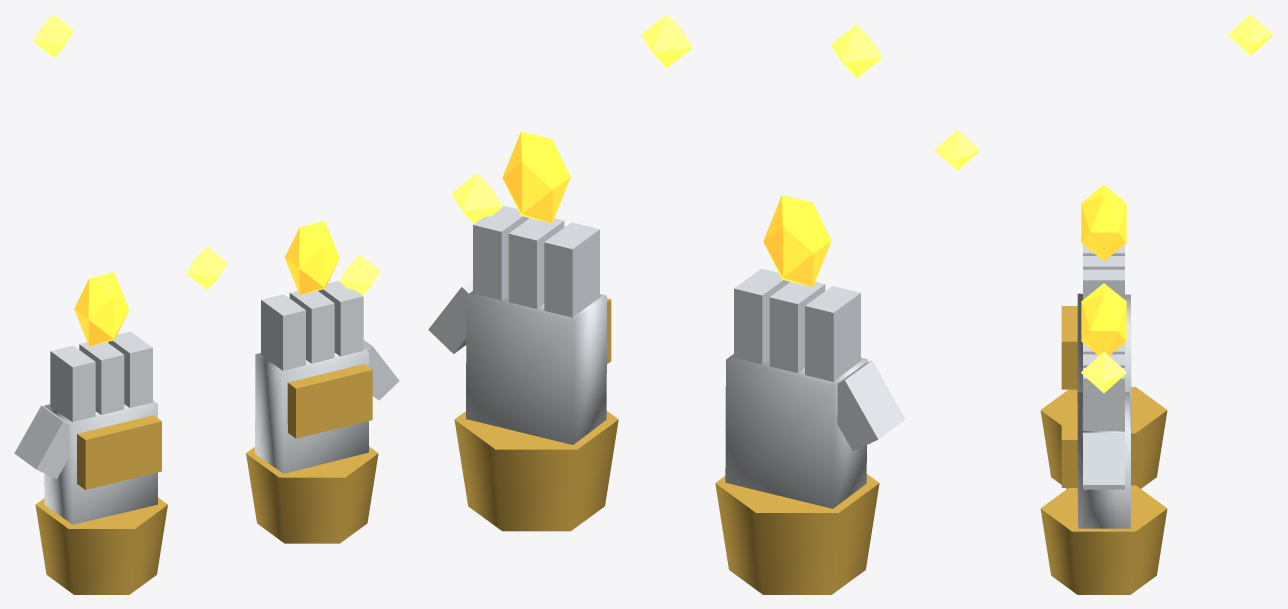
File: legend_gloves_candle.glb
3 renders of one model, left to right at view 1: azimuth 30°, elevation 25°; view 2: azimuth 150°, elevation 25°; view 3: azimuth 270°, elevation 25°, orthographic. The views are drawn at different scales.
Visible parts, largest first — view 1: sideR_metal3, sideL_metal3, sideL_trim3, sideR_trim3, item_legendGlow, item_legendSpark; view 2: sideR_metal3, sideL_metal3, sideL_trim3, sideR_trim3, item_legendGlow, item_legendSpark; view 3: sideL_trim3, sideL_metal3, sideR_trim3, item_legendGlow, item_legendSpark, sideR_metal3.
Boxes of the visible parts, x1,y1,x2,y2 form: sideR_metal3: (14,331,157,524); sideL_metal3: (255,281,399,473); sideL_trim3: (246,364,378,543); sideR_trim3: (35,415,167,594); item_legendGlow: (74,221,339,346); item_legendSpark: (33,14,380,295); sideR_metal3: (725,268,905,508); sideL_metal3: (428,205,606,444); sideL_trim3: (454,298,618,531); sideR_trim3: (715,474,879,594); item_legendGlow: (502,131,831,286); item_legendSpark: (451,14,882,223); sideL_trim3: (1040,404,1167,594); sideL_metal3: (1077,343,1130,528); sideR_trim3: (1040,306,1167,488); item_legendGlow: (1081,185,1126,355); item_legendSpark: (934,14,1273,393); sideR_metal3: (1077,245,1131,430).
Bounding box in the file's own units: 0.3797 × 0.497 × 0.3211.
